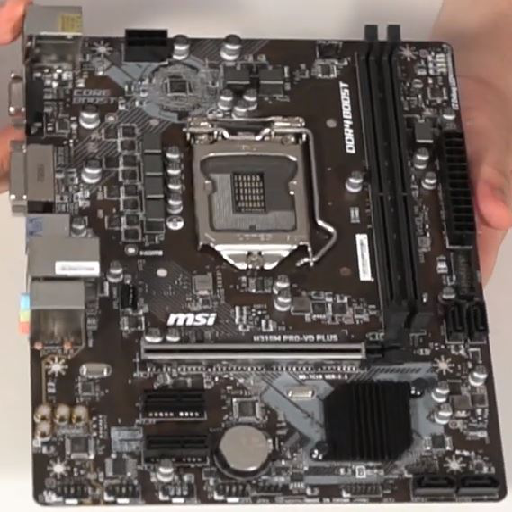CPU: (189, 115, 321, 267)
GPU: (137, 337, 400, 367)
MOTHERBOARD: (18, 36, 510, 503)
RAM: (354, 25, 423, 329)
